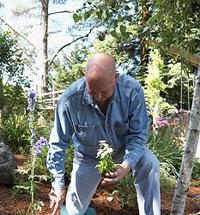person: (46, 53, 161, 215)
